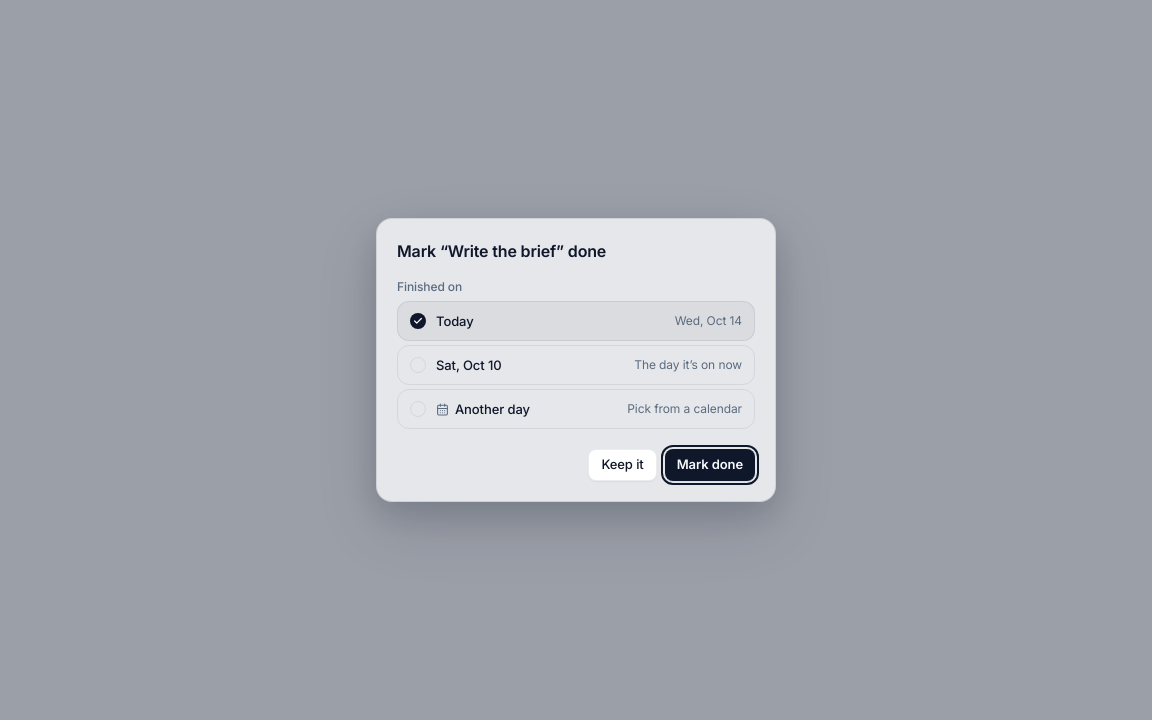
it: FinishPromptDialog picking another day › opens a month bounded from the day the task was added to yesterday
Click the radio button with test id "finish-day-other" at (492, 409), box top-left (397, 389), bottom-right (755, 429)
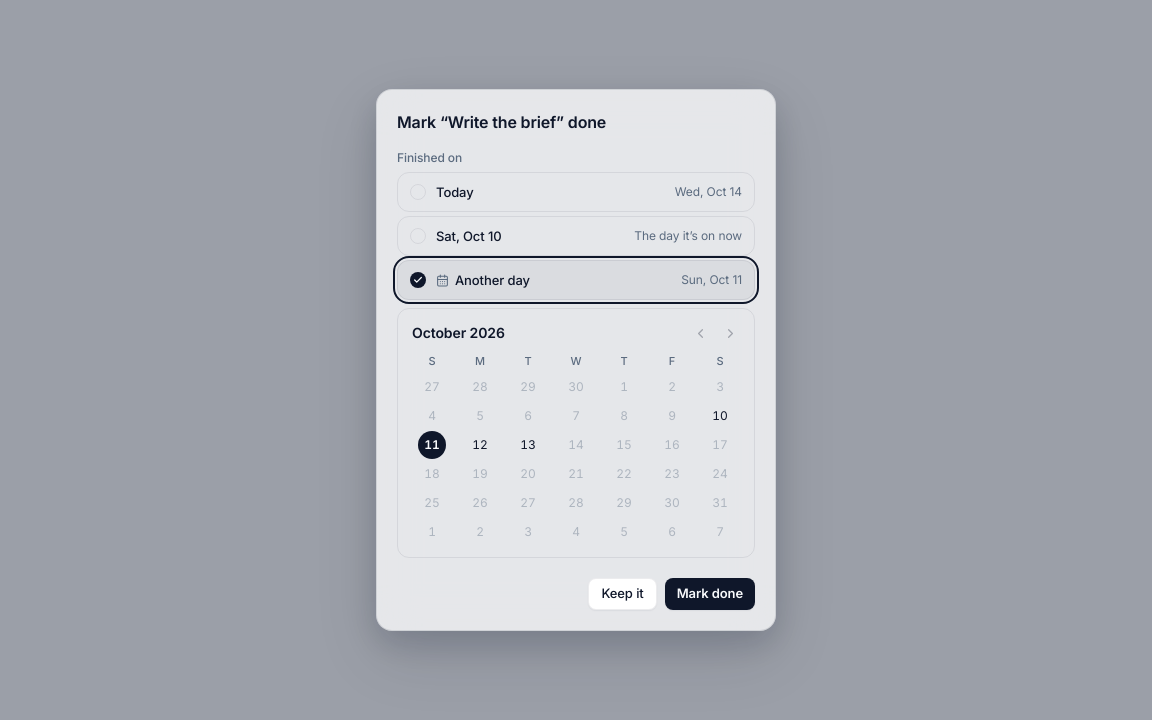
Expected: the element with test id "finish-day-picker" is shown, top-left (397, 308), bottom-right (755, 558)
Expected: the button named "Thursday, October 15" is disabled, top-left (610, 431), bottom-right (638, 459)
Expected: the button named "Previous month" is disabled, top-left (686, 319), bottom-right (714, 347)
